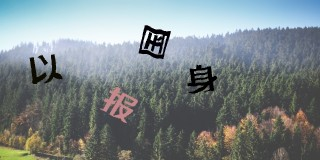以: (28, 53, 63, 84)
国: (137, 24, 171, 60)
报: (101, 86, 138, 123)
身: (187, 63, 218, 95)
